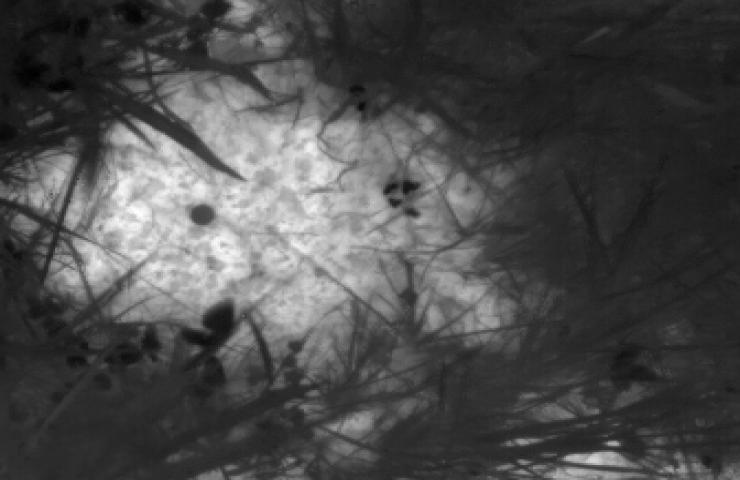landmines: (6, 1, 532, 384)
